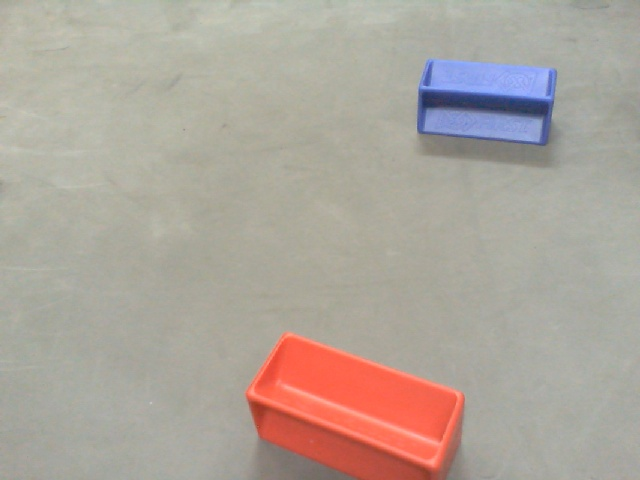BlueSample: (416, 54, 559, 146)
RedSample: (244, 329, 467, 480)
